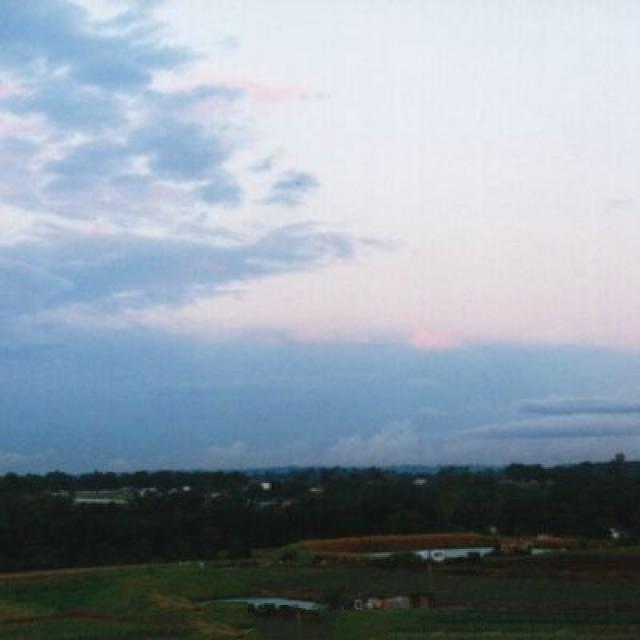Sc: (1, 1, 401, 337)
